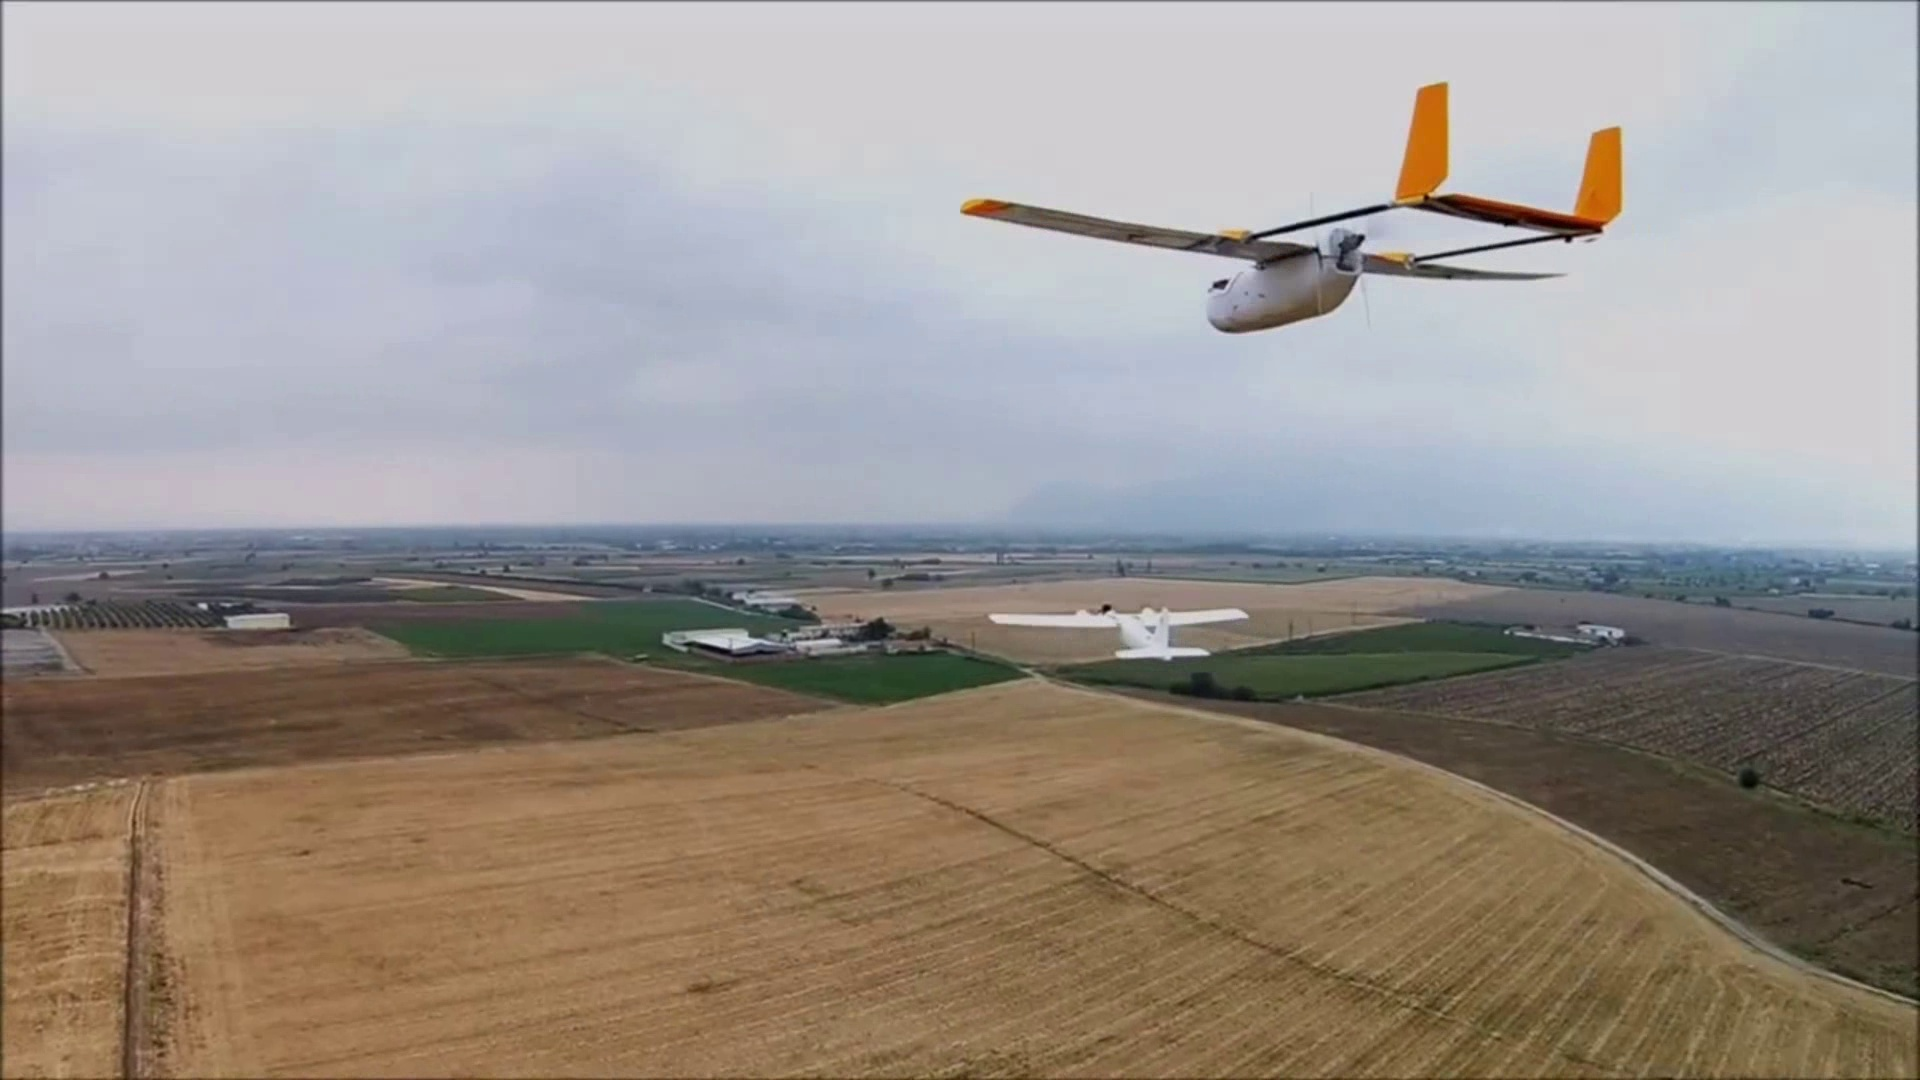airplane: (961, 80, 1625, 334)
